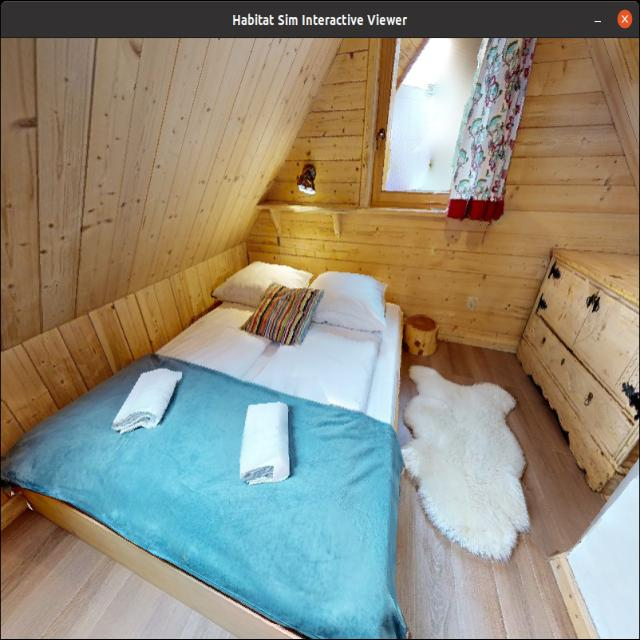bed: (0, 236, 434, 639)
